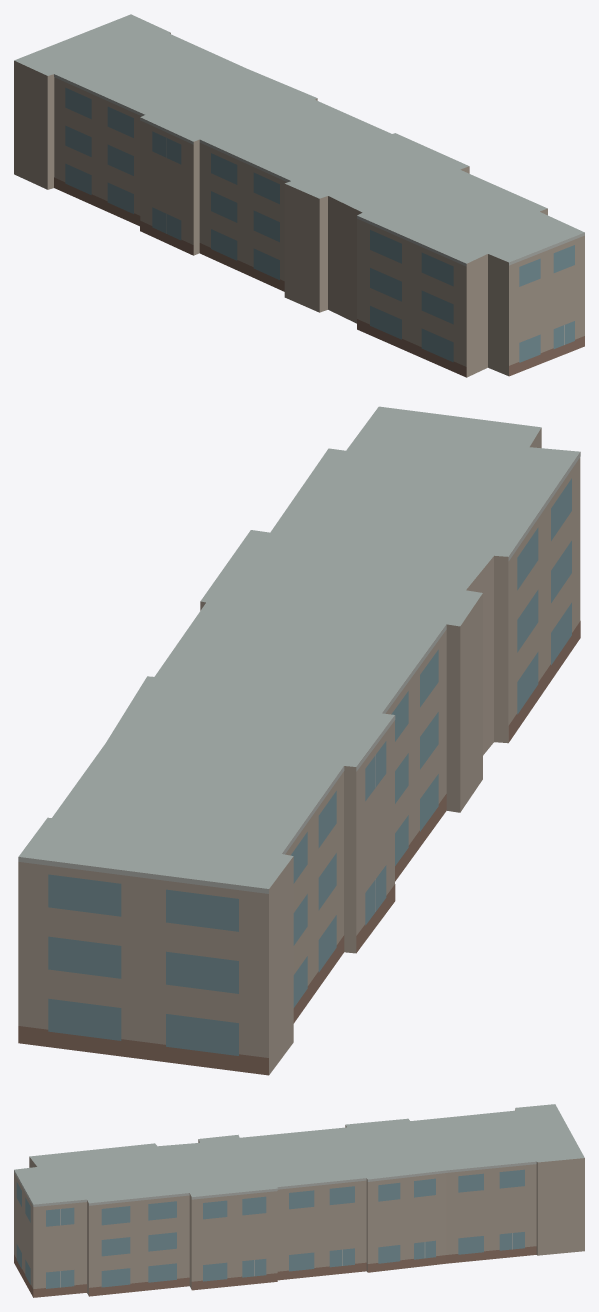
Rendered from survey-upis-32606047.glb.
The picture shows the model from 3 angles, top to bottom: view 1: azimuth 30°, elevation 25°; view 2: azimuth 150°, elevation 25°; view 3: azimuth 270°, elevation 25°; orthographic projection. The views are drawn at different scales.
Visible parts, largest first — view 1: survey-upis-32606047.tmp; view 2: survey-upis-32606047.tmp; view 3: survey-upis-32606047.tmp.
Part boxes in pixels (x1,y1,x2,y2): survey-upis-32606047.tmp: (14,14,584,377); survey-upis-32606047.tmp: (18,406,580,1075); survey-upis-32606047.tmp: (14,1104,584,1297).
Size of the model in its own units: 21.18 by 9.15 by 50.81.
